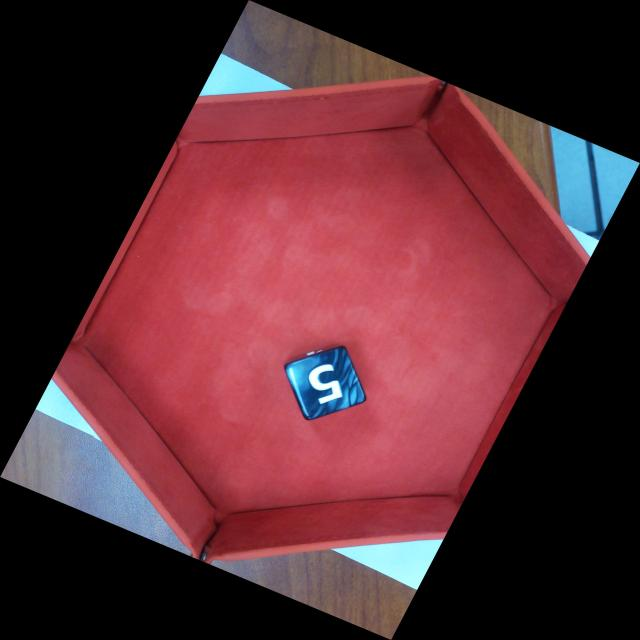dice: (282, 342, 372, 425)
